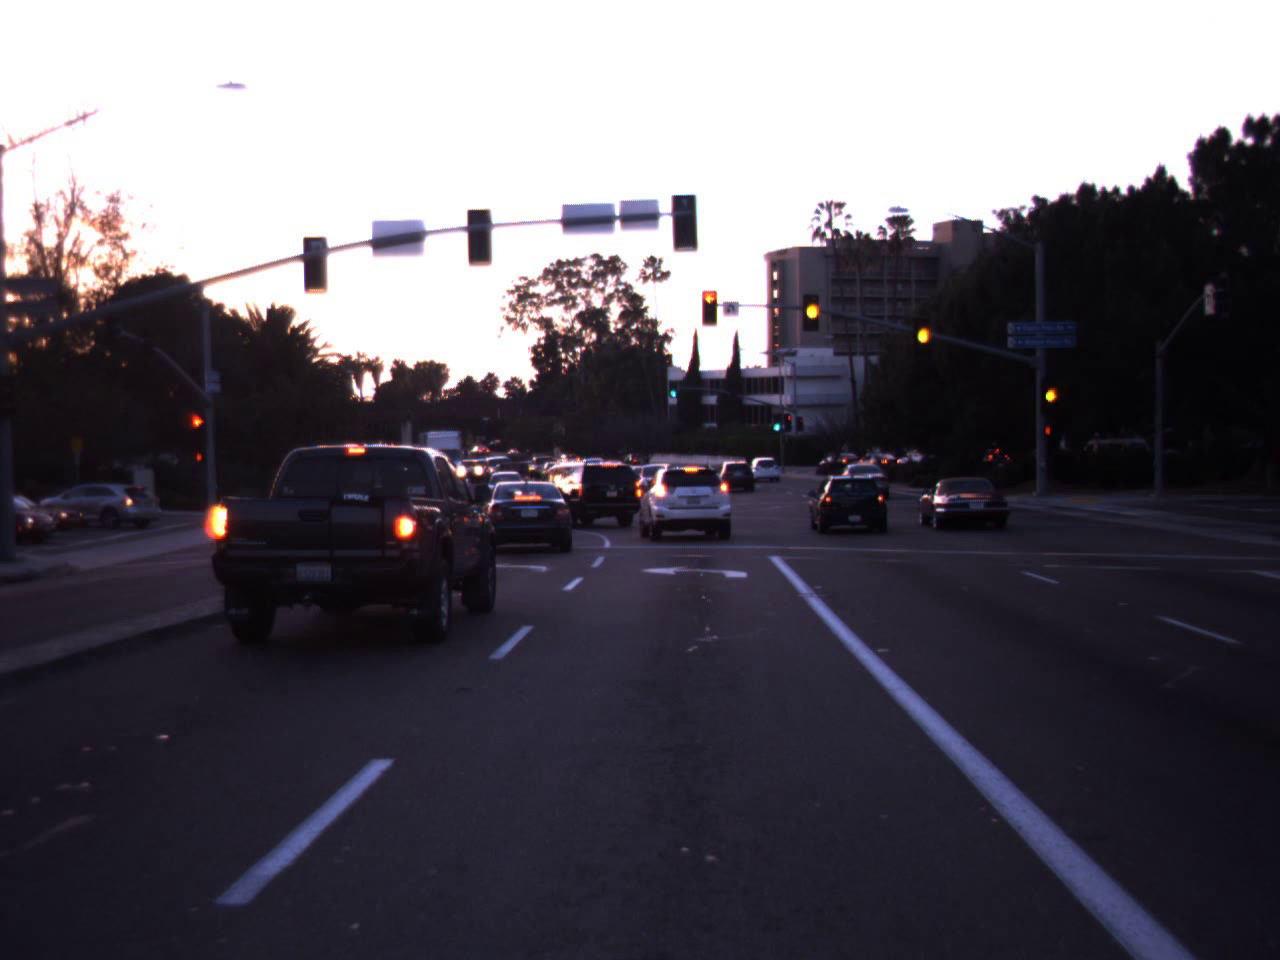go: (769, 403, 784, 433), (667, 373, 679, 398)
stop: (692, 285, 725, 339), (182, 411, 212, 456)
warning: (800, 279, 827, 337), (910, 306, 937, 360), (1038, 374, 1062, 414)
